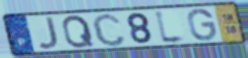8: (126, 12, 154, 45)
C: (91, 12, 128, 48)
G: (186, 8, 218, 42)
J: (37, 15, 61, 51)
L: (152, 8, 189, 46)
Q: (61, 14, 96, 50)
